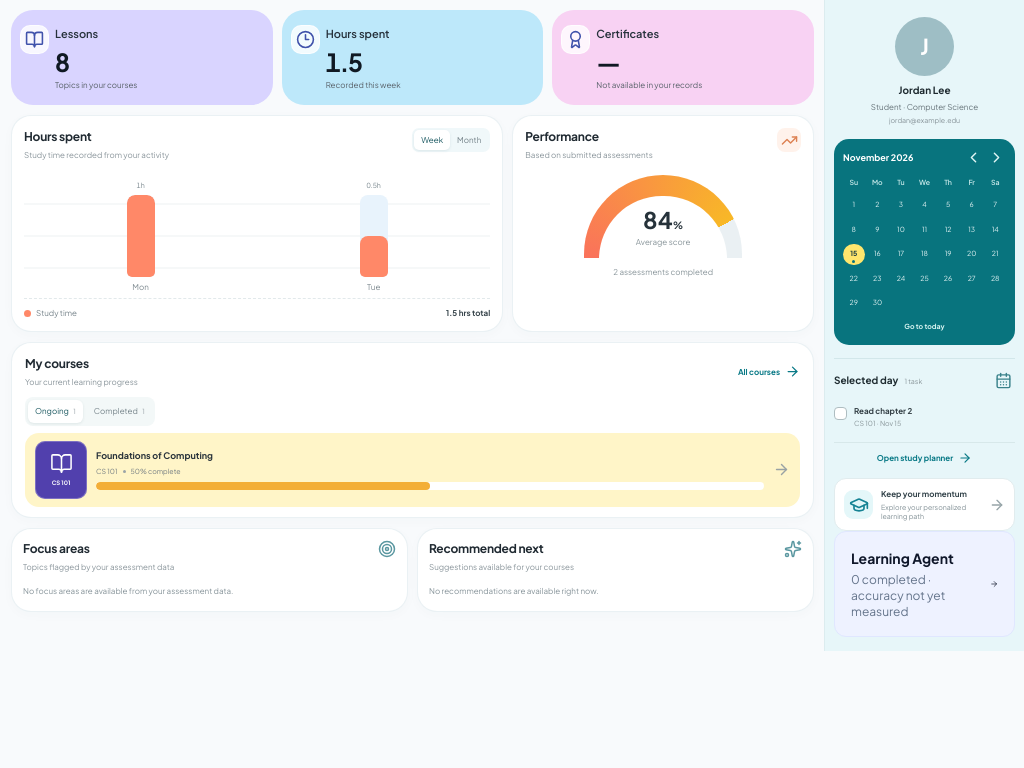
Test case: student dashboard › filters the course cards by completion status
Expected: the text "Foundations of Computing" is shown, [96,450,213,460]
Click the tab "Completed 1".
click(119, 412)  # box [87,400,152,423]
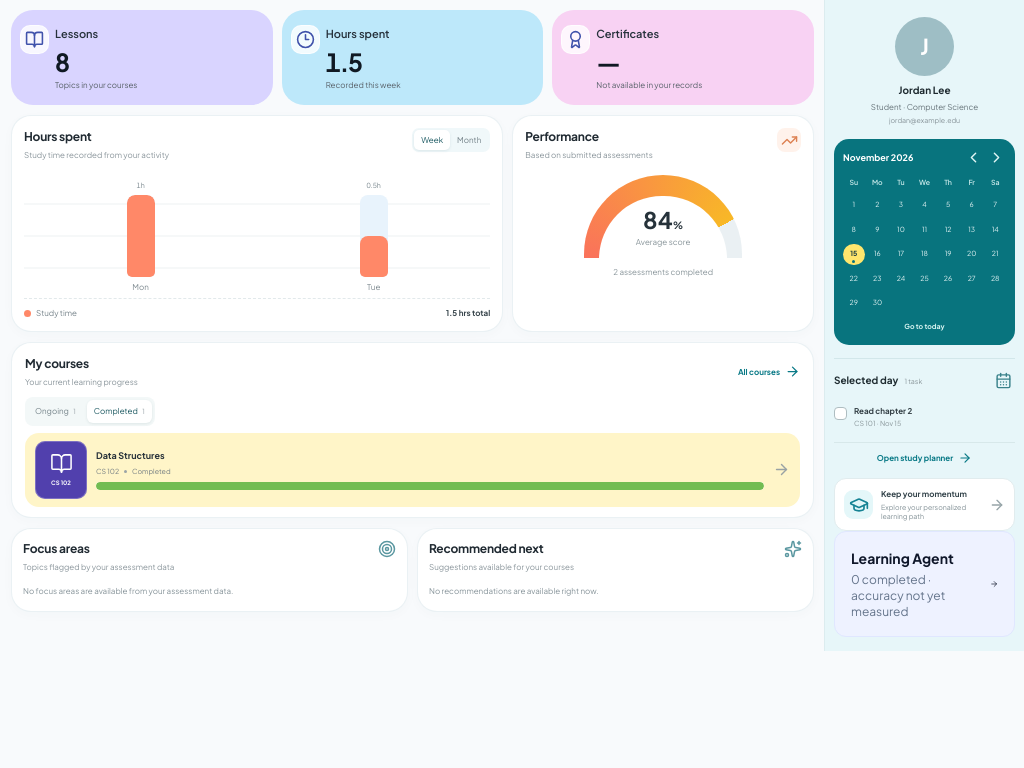
Expected: the text "Data Structures" is shown, [96,450,165,460]
Expected: the button "Foundations of Computing" is gone
